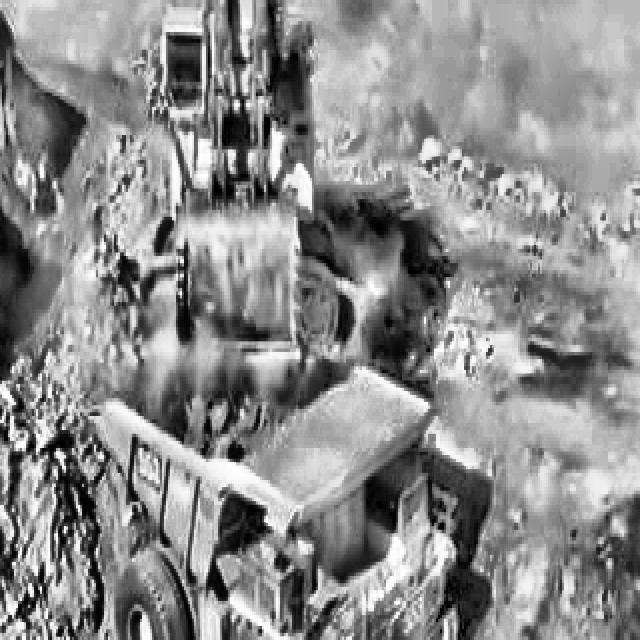dump_truck: (84, 370, 462, 640)
excavator: (154, 0, 330, 356)
